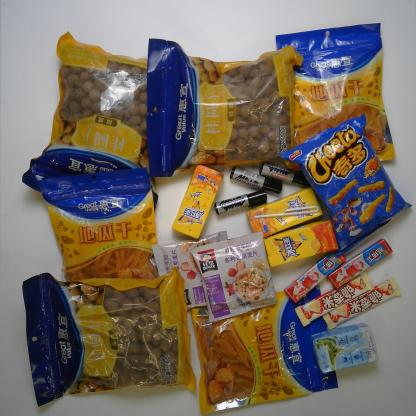Candy: (283, 247, 346, 299), (329, 238, 393, 289)
Chocolate: (295, 270, 374, 327), (322, 278, 402, 329)
Dried Food: (22, 32, 174, 219), (22, 266, 196, 407), (148, 39, 304, 177)
Dried Fruit: (188, 283, 338, 412), (37, 167, 174, 303), (275, 22, 396, 173)
Drink: (247, 188, 324, 240), (172, 165, 224, 240), (263, 221, 339, 266)
Instant Drink: (152, 230, 240, 319), (192, 231, 277, 323)
Milk: (312, 321, 379, 374)
Puffed Food: (279, 113, 413, 256)
Stationery: (230, 164, 282, 195), (214, 188, 267, 215), (257, 161, 313, 186)
